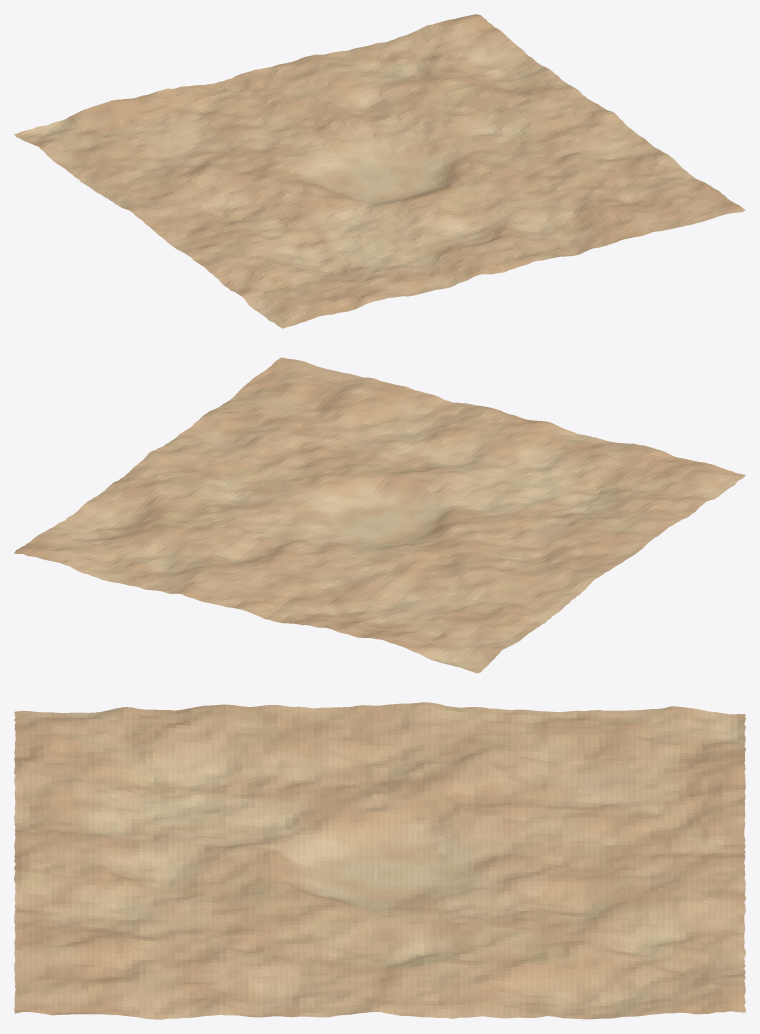
The model's file is env_terrain.glb.
The picture shows the model from 3 angles, top to bottom: view 1: azimuth 30°, elevation 25°; view 2: azimuth 150°, elevation 25°; view 3: azimuth 270°, elevation 25°; orthographic projection. The views are drawn at different scales.
Parts seen in each view (by area): view 1: terrain; view 2: terrain; view 3: terrain.
Boxes of the visible parts, left/top/right/bottom form: terrain: left=14, top=14, right=745, bottom=328; terrain: left=14, top=357, right=745, bottom=673; terrain: left=14, top=702, right=745, bottom=1019.
Bounding box in the file's own units: 642 × 19.79 × 642.
1 material, 1 textured.
